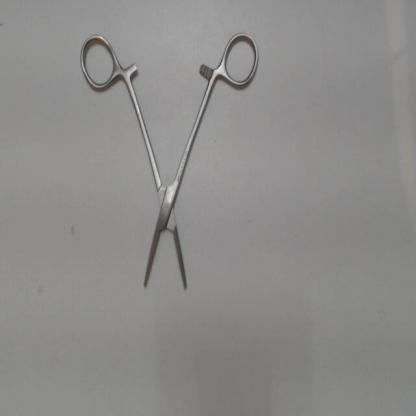Mayo Needle Holder: (76, 27, 266, 301)
